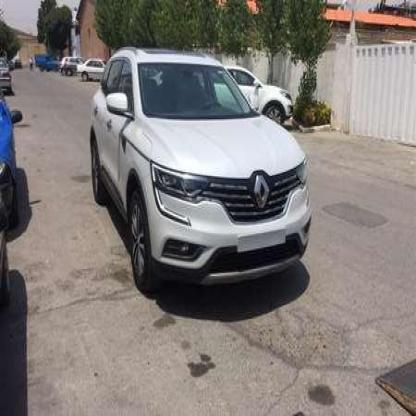Car: (92, 62, 312, 294), (216, 60, 290, 128), (74, 53, 113, 86), (0, 52, 21, 88), (55, 56, 84, 80), (33, 53, 61, 72)
